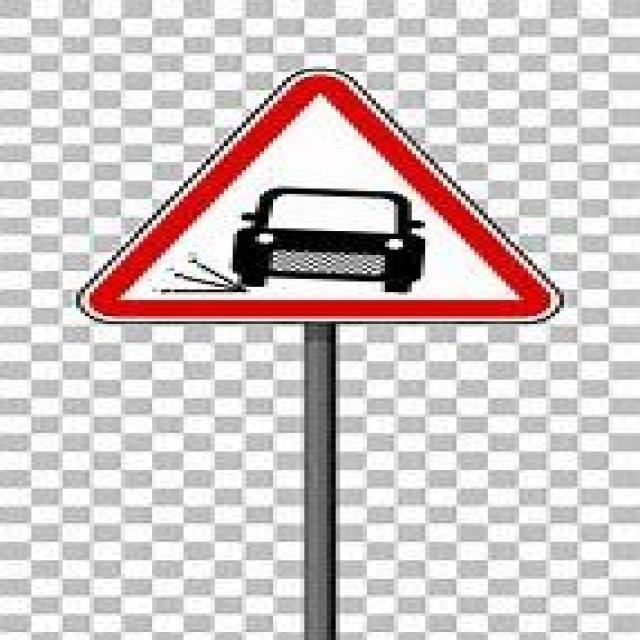loose gravel: (78, 70, 567, 327)
